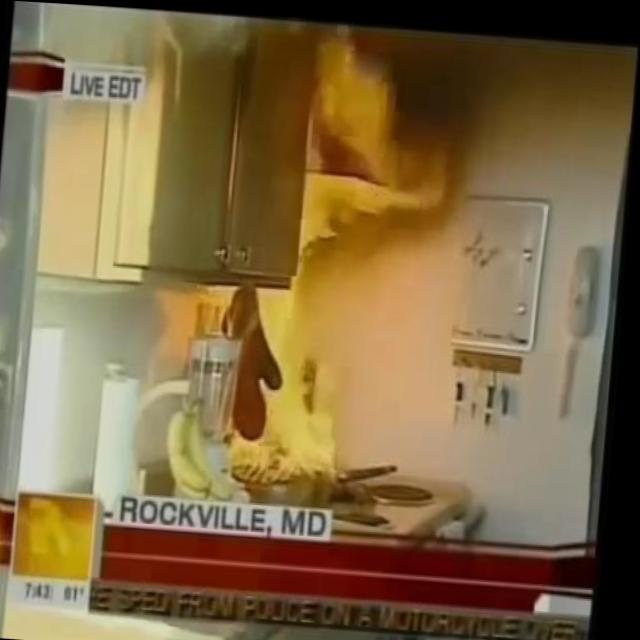fire: (222, 15, 448, 488)
